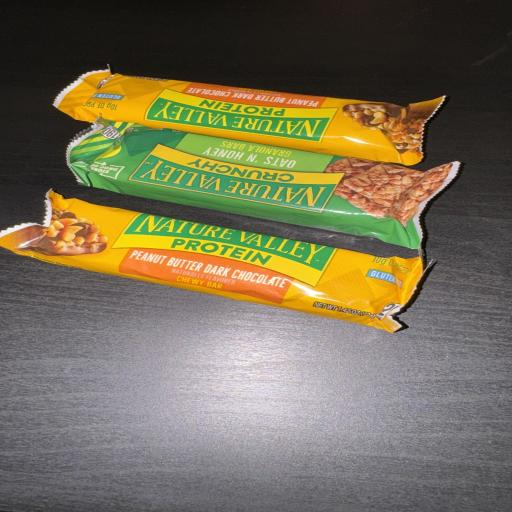granola: (0, 191, 422, 331), (68, 120, 458, 248), (54, 70, 443, 165)
